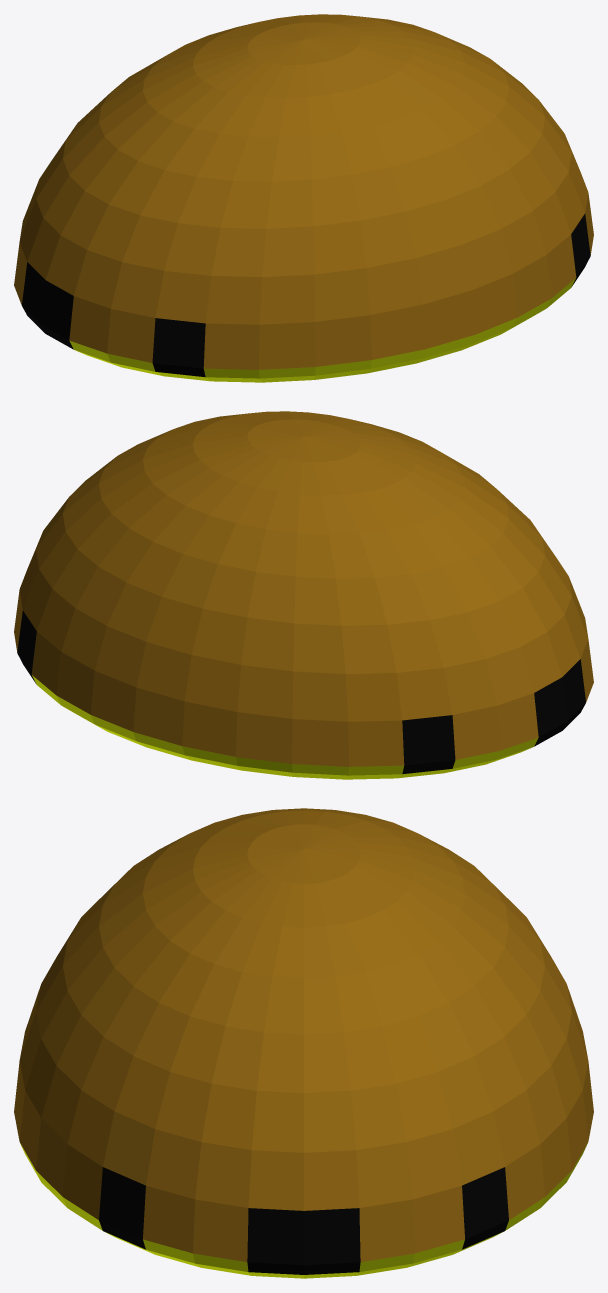
Rendered from GenjiShell.glb.
3 views of the same model, one above another, from view 1: azimuth 30°, elevation 25°; view 2: azimuth 150°, elevation 25°; view 3: azimuth 270°, elevation 25° (orthographic). The views are drawn at different scales.
Visible parts, largest first — view 1: ShellUp, ShellDown, ShellUpEntrace, ShellDownEntrace; view 2: ShellUp, ShellDown, ShellUpEntrace, ShellDownEntrace; view 3: ShellUp, ShellUpEntrace, ShellDown, ShellDownEntrace.
Boxes of the visible parts, x1=… form: ShellUp: x1=14, y1=14, x2=593, y2=369; ShellDown: x1=69, y1=278, x2=575, y2=382; ShellUpEntrace: x1=22, y1=213, x2=590, y2=368; ShellDownEntrace: x1=22, y1=257, x2=589, y2=377; ShellUp: x1=14, y1=411, x2=593, y2=766; ShellDown: x1=32, y1=675, x2=538, y2=779; ShellUpEntrace: x1=17, y1=610, x2=585, y2=765; ShellDownEntrace: x1=18, y1=654, x2=585, y2=774; ShellUp: x1=14, y1=808, x2=593, y2=1261; ShellUpEntrace: x1=99, y1=1167, x2=508, y2=1264; ShellDown: x1=20, y1=1143, x2=587, y2=1278; ShellDownEntrace: x1=99, y1=1220, x2=508, y2=1274.
Bounding box in the file's own units: 50 × 25 × 40.
